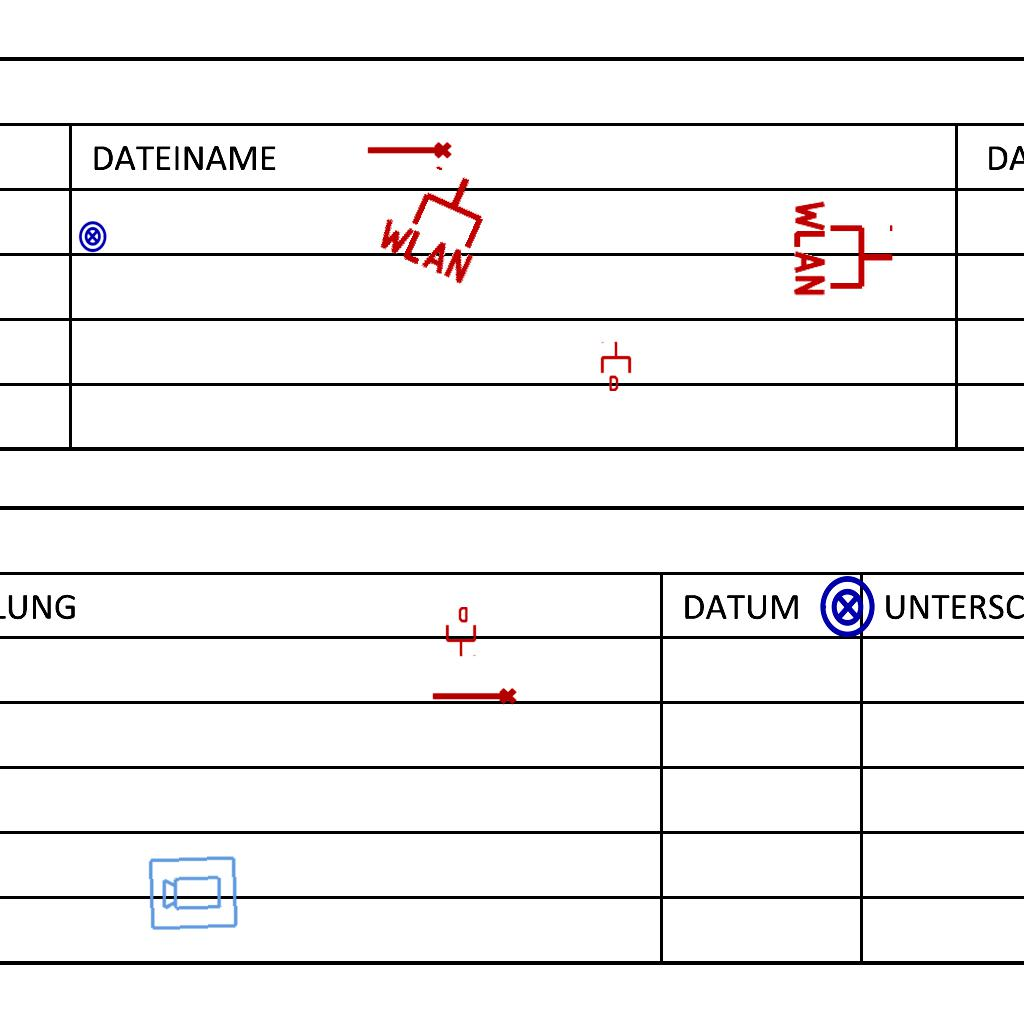ASR_Ansaugoeffnung: (365, 140, 453, 163), (430, 686, 518, 709)
Datenanschluss_einfach: (443, 606, 479, 658), (599, 341, 633, 391)
KFO_Kamera_mit_Festobjektiv: (146, 852, 241, 933)
Taster_beleuchtet: (815, 574, 881, 640), (76, 220, 109, 253)
WLAN: (369, 149, 508, 289), (792, 196, 897, 300)
